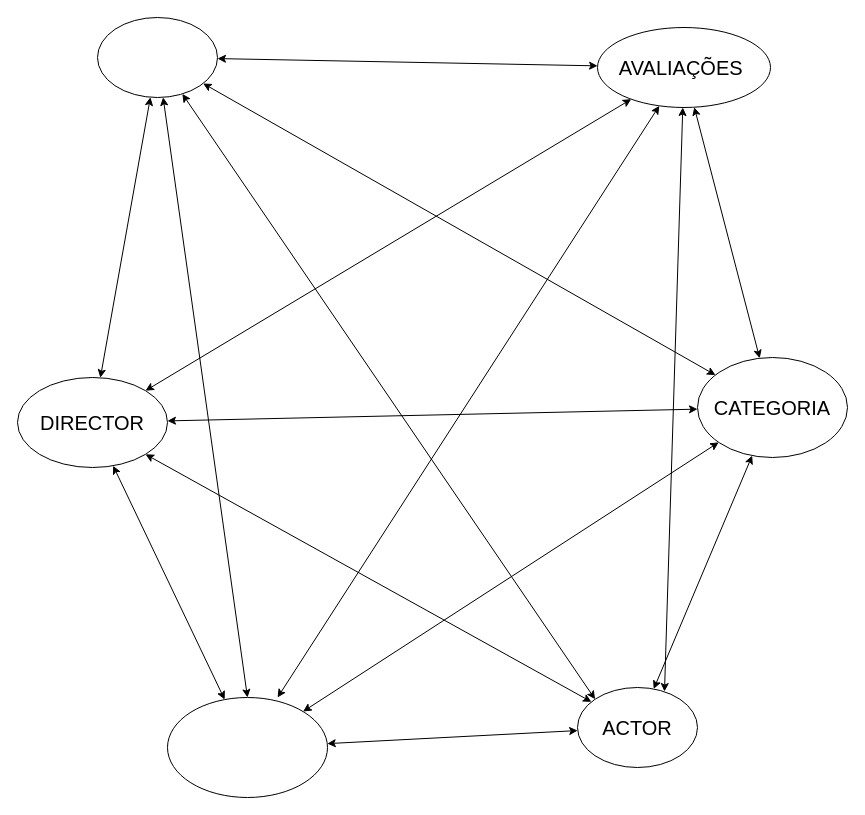
Image size: 865x815. Some labels were removed from this diagram. The shapes that lost their labels are listed below. From the top down, each one's centre as x and y in pixels, then its label:
(157,57): FILME
(247,747): UTILIZADOR
